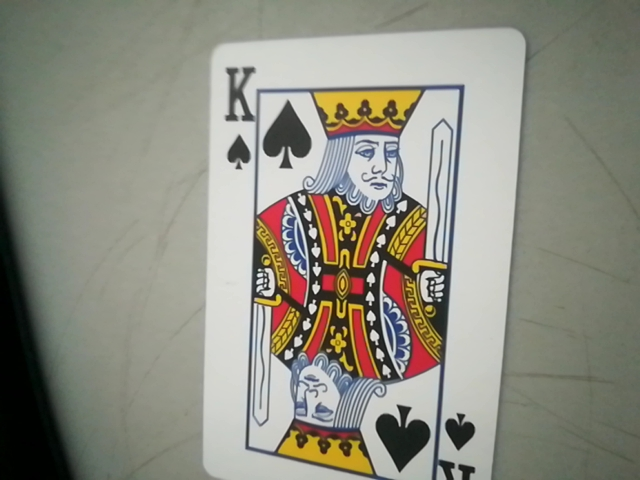ht k: (208, 60, 271, 176)
